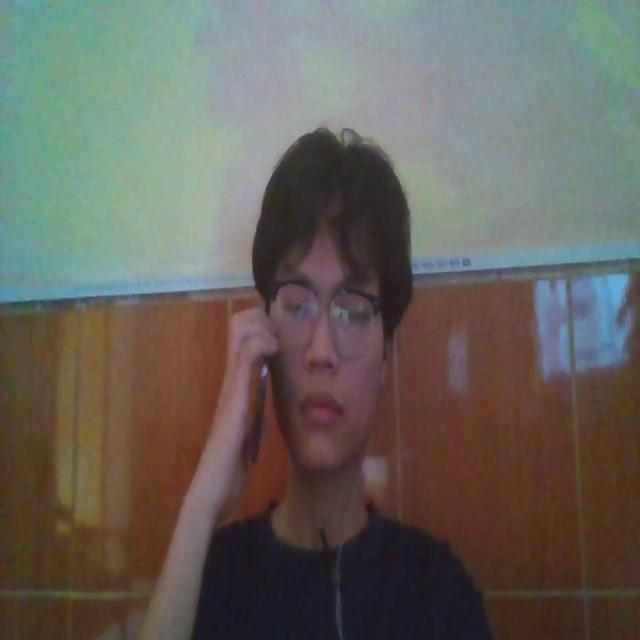phone: (247, 346, 273, 466)
student: (136, 114, 493, 640)
